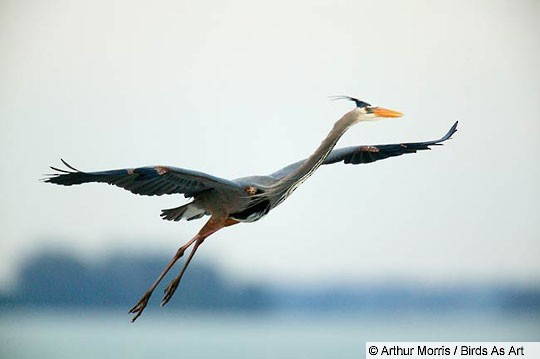heron: (40, 82, 461, 324)
